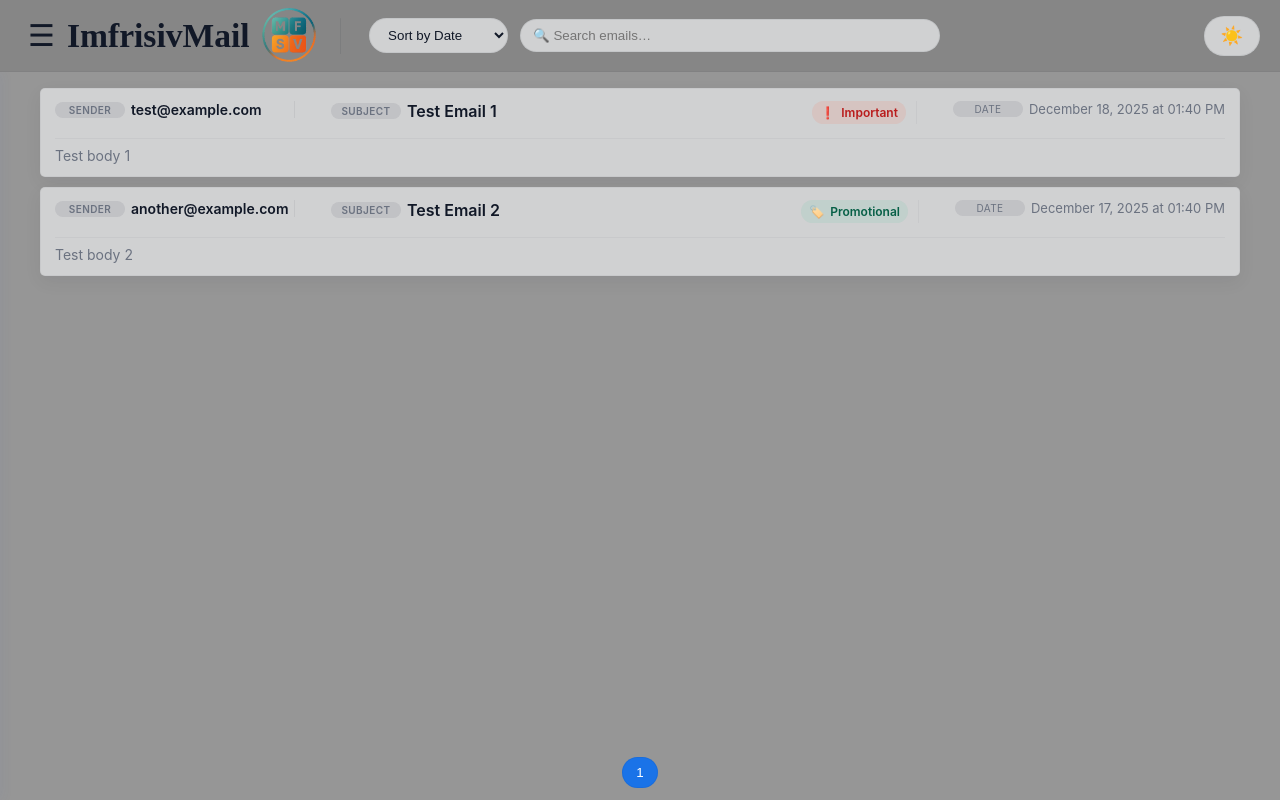
it: Homepage Component › handles reply functionality
Step 1. Click the text "Test Email 1" → point(452, 111), box top-left (407, 101), bottom-right (497, 121)
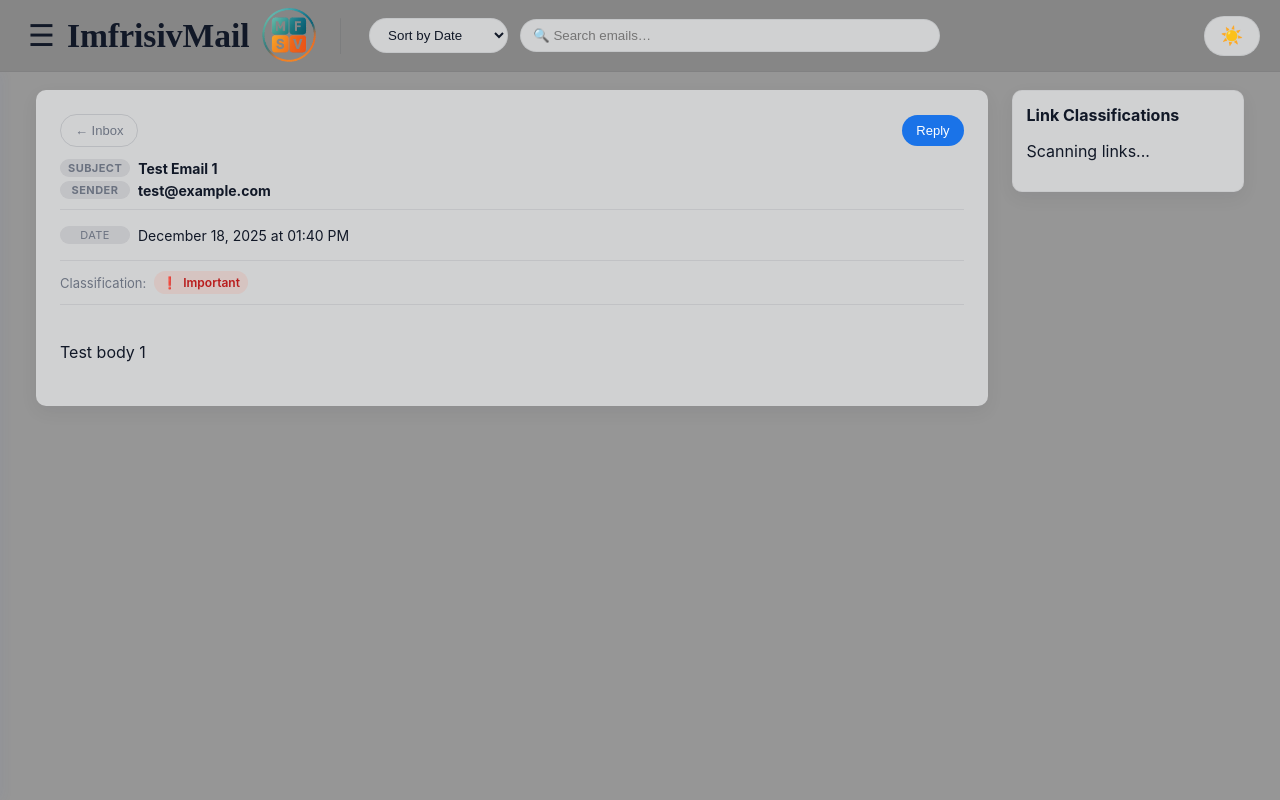
Step 2. Click the button "Reply" → point(933, 130), box top-left (902, 115), bottom-right (964, 146)
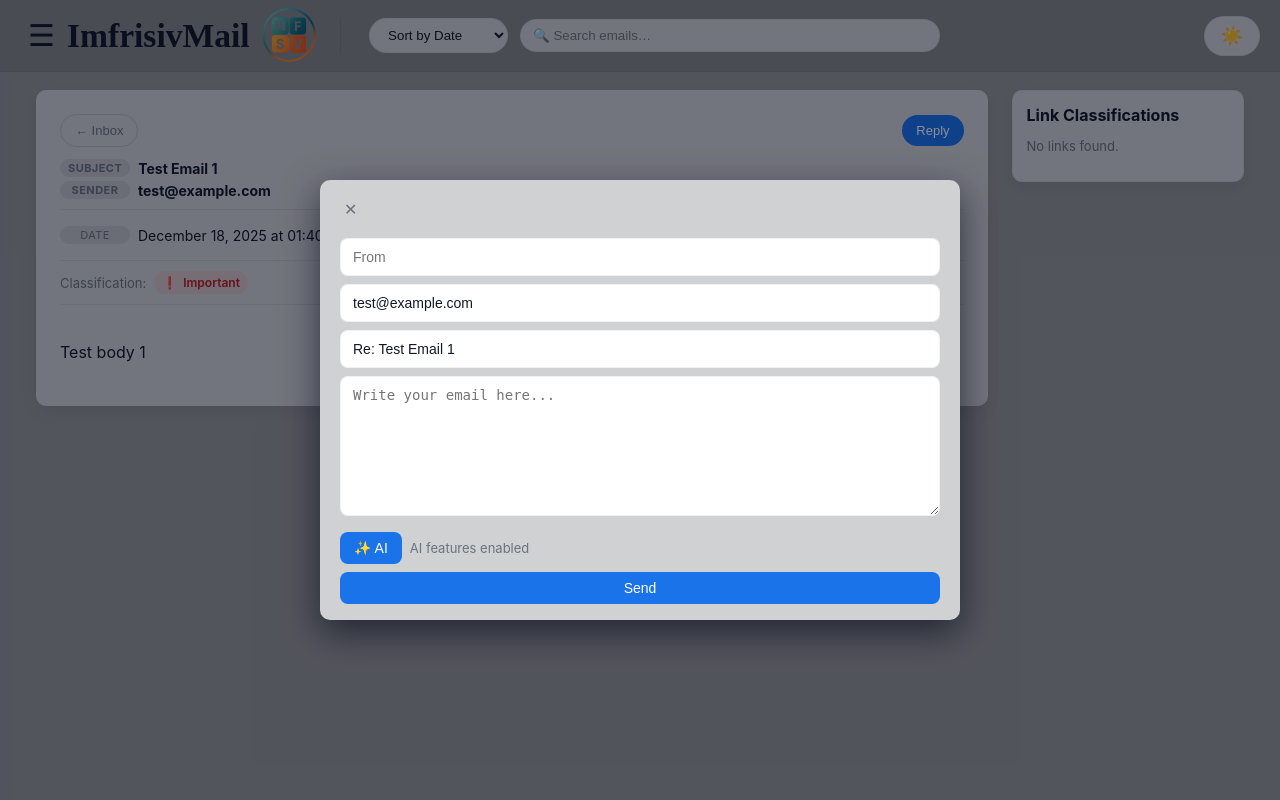
Now the 1st field with placeholder "Recipient's email" holds "test@example.com", box top-left (340, 284), bottom-right (940, 322)
